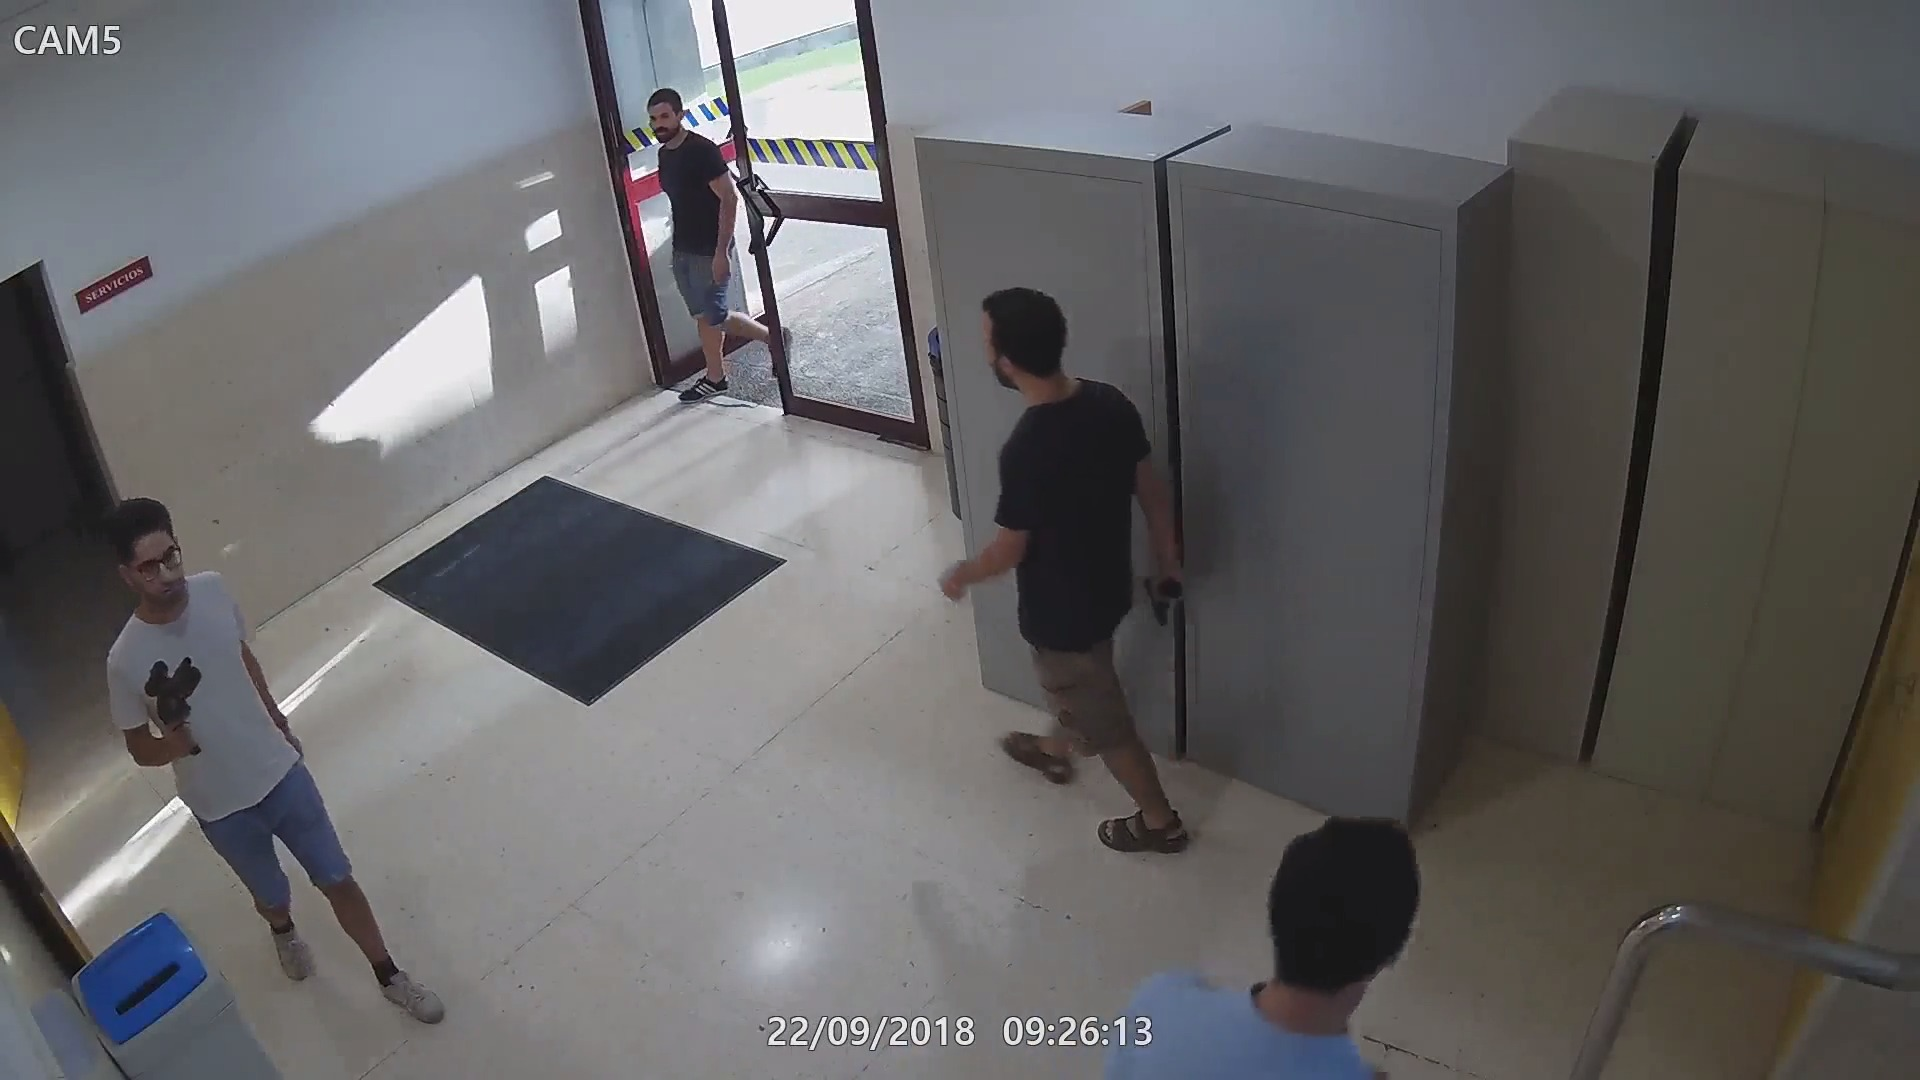Handgun: (1138, 568, 1191, 633)
Short_rifle: (145, 646, 206, 765)
